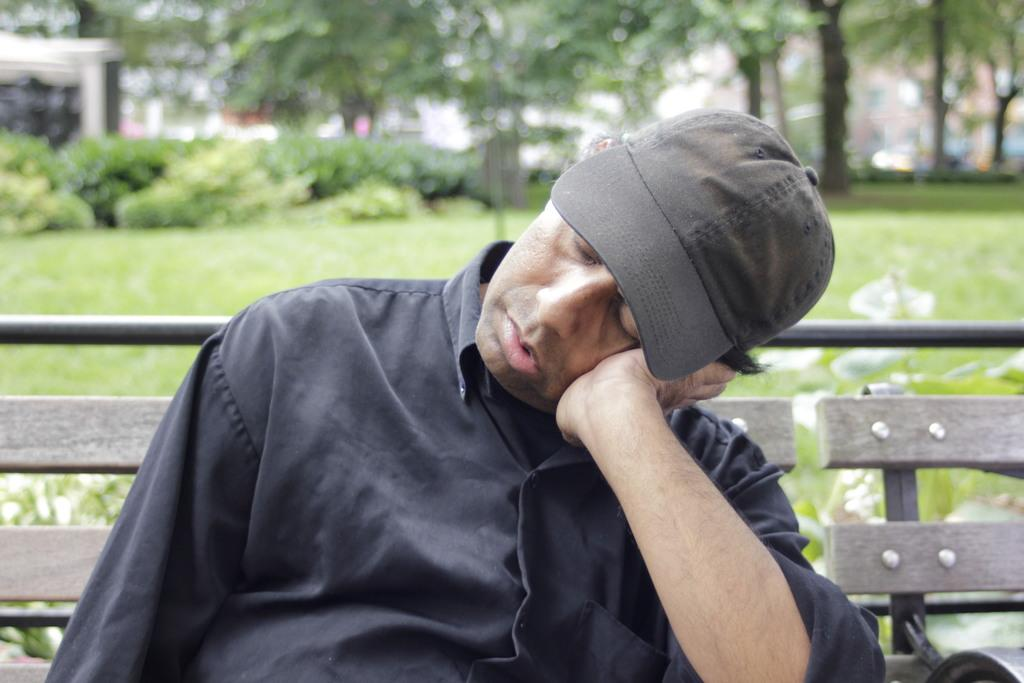Hat: (545, 108, 834, 383)
